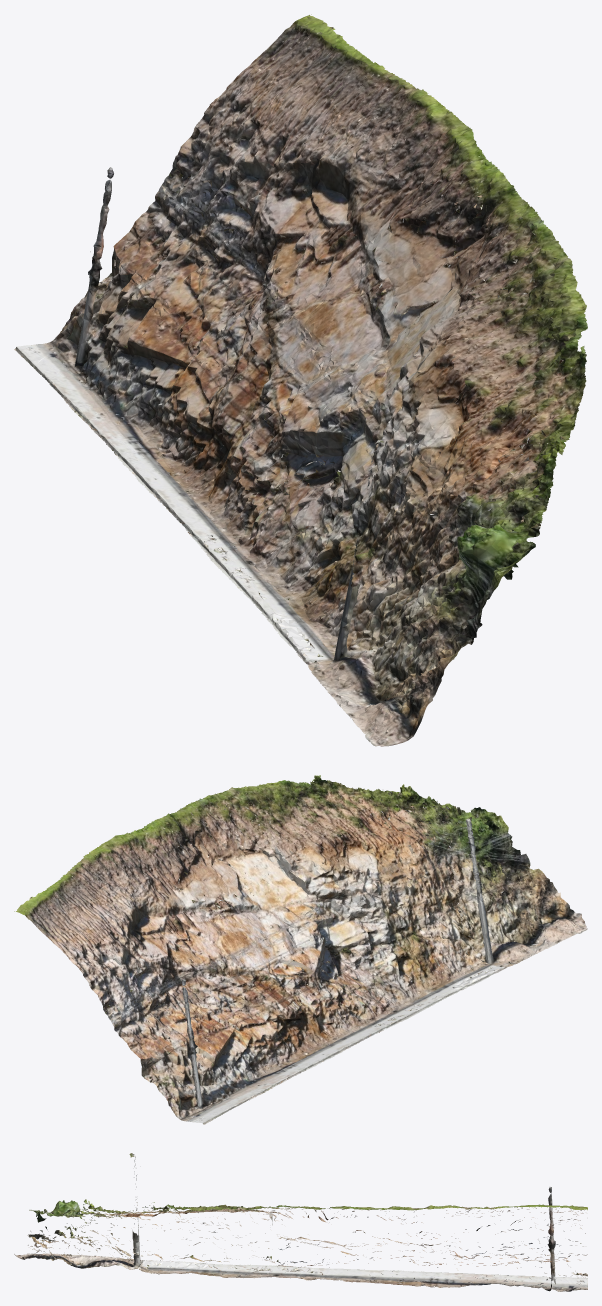
3 renders of one model, top to bottom at view 1: azimuth 30°, elevation 25°; view 2: azimuth 150°, elevation 25°; view 3: azimuth 270°, elevation 25°, orthographic. The views are drawn at different scales.
Size of the model in its own units: 24.52 by 15.92 by 49.84.
1 material, 1 textured.
